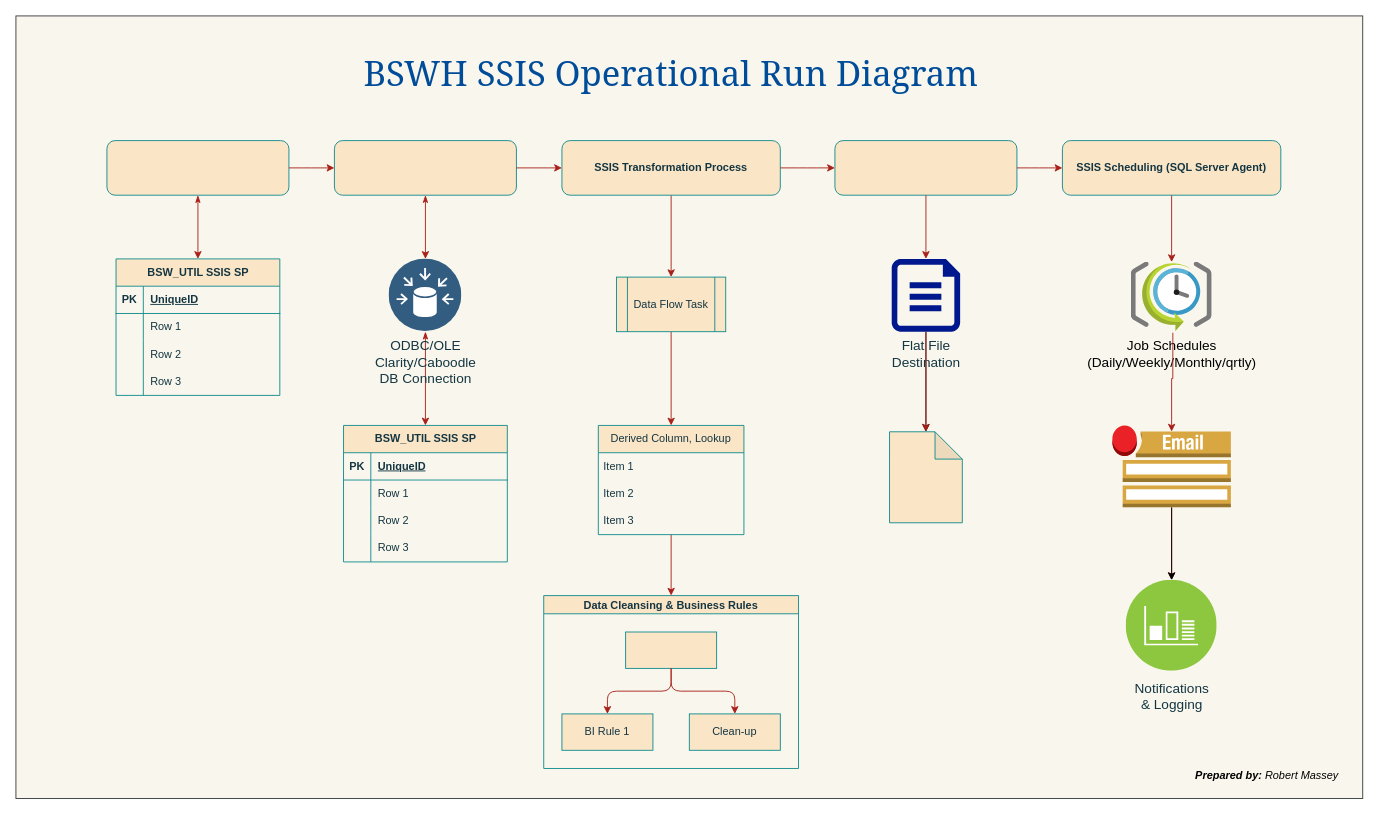
Image size: 1379x814. Some labels were removed from this diagram. The box of each missing label's shape, as (x1, y1, x2, y2) in pixels:
BI Rule Master: (625, 631, 717, 668)
EPIC Cogito Clarity/Caboodle DB: (106, 140, 289, 195)
Notifications: (1111, 425, 1231, 507)
SSIS Data Destination Process: (834, 140, 1017, 195)
SSIS Data Source Extraction Process: (334, 140, 516, 195)
Stakeholder-Specific Logic: (889, 431, 962, 523)
